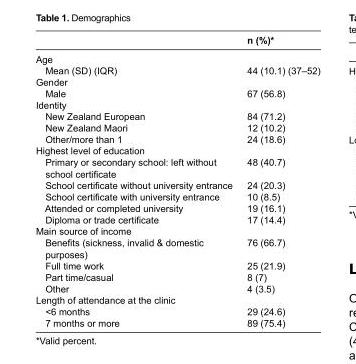table: (34, 34, 319, 327)
table column: (34, 34, 239, 327), (239, 34, 319, 327)
table column header: (34, 34, 319, 49)
table projected row header: (34, 49, 319, 64), (34, 75, 319, 87), (34, 98, 319, 110), (34, 224, 319, 236), (34, 293, 319, 305), (34, 144, 319, 155)
table row: (34, 155, 319, 179), (34, 236, 319, 259), (34, 34, 319, 49), (34, 49, 319, 64), (34, 75, 319, 87), (34, 98, 319, 110), (34, 132, 319, 144), (34, 201, 319, 213), (34, 224, 319, 236), (34, 270, 319, 282), (34, 293, 319, 305), (34, 64, 319, 75), (34, 87, 319, 98), (34, 110, 319, 121), (34, 121, 319, 132), (34, 144, 319, 155), (34, 179, 319, 190), (34, 190, 319, 201), (34, 213, 319, 224), (34, 259, 319, 270), (34, 282, 319, 293), (34, 305, 319, 316), (34, 316, 319, 327)
